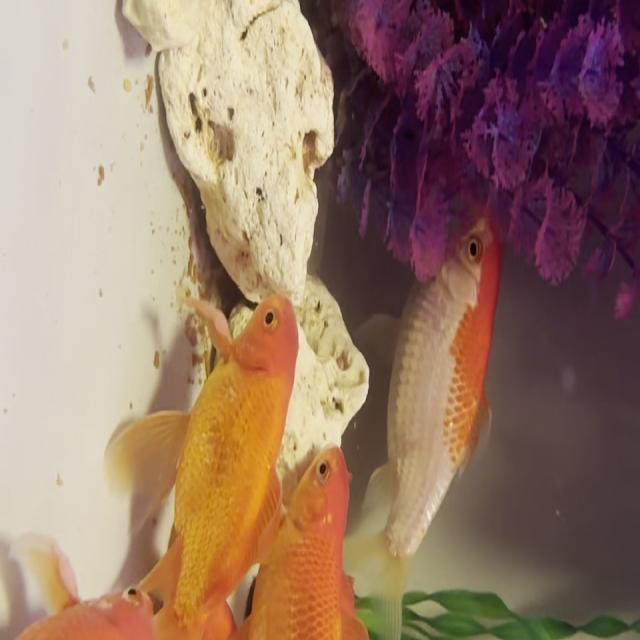fish: (72, 271, 301, 640), (343, 195, 494, 640), (172, 441, 368, 640)
